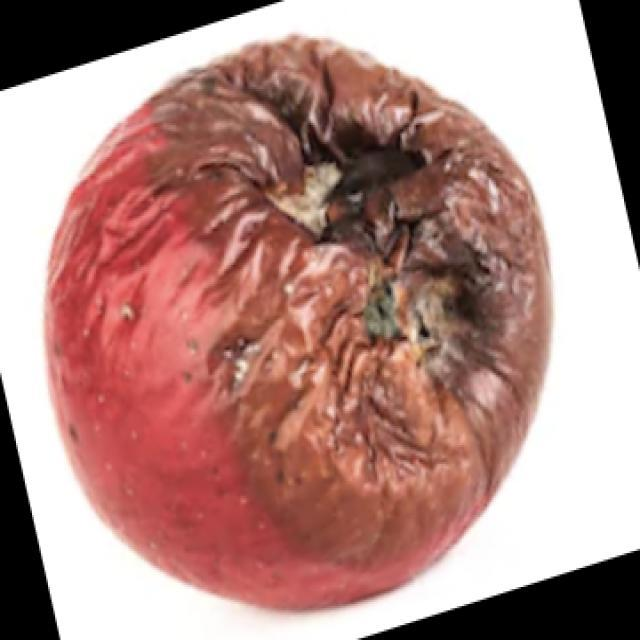Rotten: (27, 34, 543, 614)
